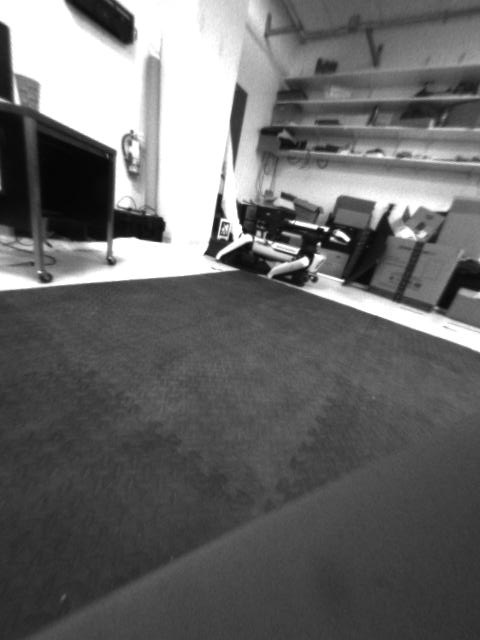coffee_cup: (14, 73, 40, 110)
